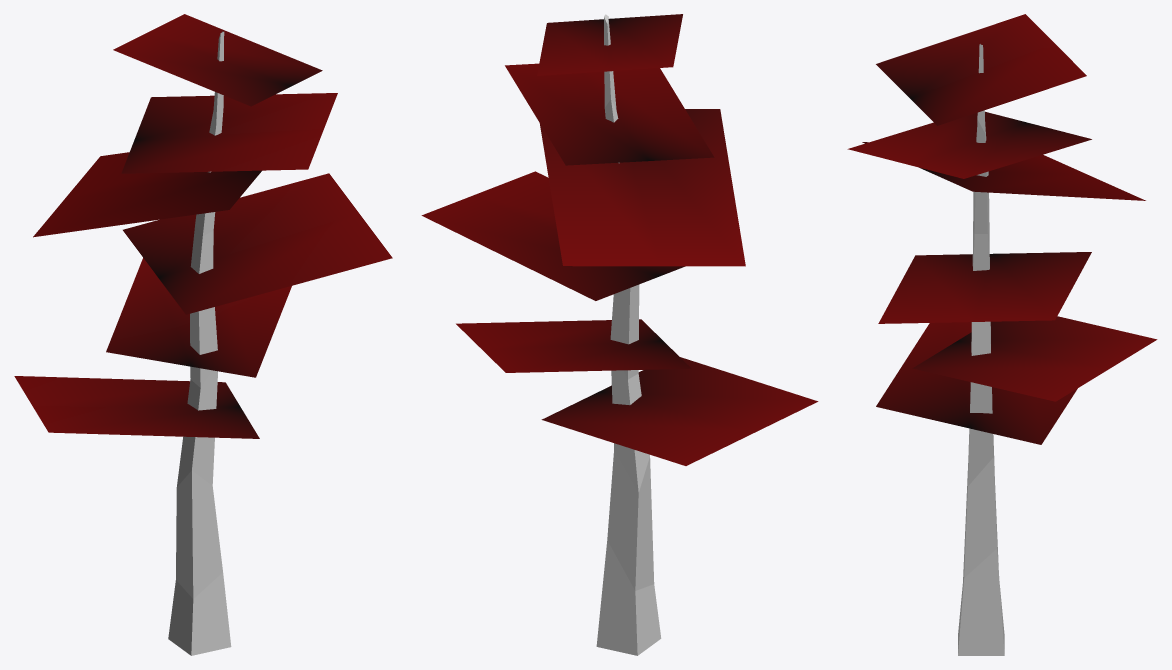
File: WideTree02.fbx
3 renders of one model, left to right at view 1: azimuth 30°, elevation 25°; view 2: azimuth 150°, elevation 25°; view 3: azimuth 270°, elevation 25°, orthographic. The views are drawn at different scales.
Visible parts, largest first — view 1: LEAFES.001, TREE.001; view 2: LEAFES.001, TREE.001; view 3: LEAFES.001, TREE.001.
Boxes of the visible parts, x1,y1,x2,y2 form: LEAFES.001: (14,14,392,438); TREE.001: (168,31,231,655); LEAFES.001: (421,14,818,465); TREE.001: (596,14,661,655); LEAFES.001: (847,14,1157,444); TREE.001: (958,44,1004,655).
Bounding box in the file's own units: 1.44 × 2.49 × 1.14.
